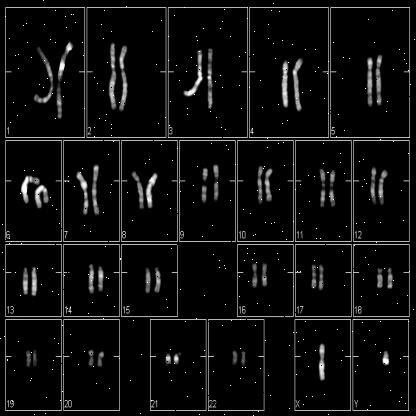1: (56, 42, 76, 120), (34, 45, 54, 107)
10: (256, 164, 264, 206), (264, 164, 272, 204)
11: (318, 168, 328, 208), (327, 169, 337, 208)
12: (378, 167, 388, 209), (370, 166, 376, 208)
13: (20, 266, 29, 297), (30, 266, 38, 297)
14: (96, 262, 106, 296), (86, 262, 95, 296)
15: (153, 266, 160, 294), (144, 268, 151, 295)
16: (260, 260, 269, 290), (250, 262, 259, 290)
17: (310, 262, 316, 292), (318, 262, 324, 292)
18: (374, 266, 384, 292), (384, 266, 394, 292)
19: (24, 348, 32, 368), (31, 350, 38, 368)
2: (107, 42, 119, 112), (118, 44, 130, 114)
20: (87, 348, 95, 368), (96, 348, 104, 368)
21: (172, 351, 181, 364), (164, 351, 172, 364)
22: (231, 349, 238, 367), (240, 348, 245, 366)
3: (184, 49, 204, 98), (206, 47, 218, 110)
4: (292, 57, 304, 112), (280, 60, 290, 108)
5: (366, 56, 374, 108), (375, 54, 382, 107)
6: (19, 174, 40, 204), (34, 184, 50, 209)
7: (88, 163, 103, 216), (74, 170, 90, 216)
8: (130, 170, 144, 212), (144, 170, 158, 210)
9: (211, 164, 220, 204), (200, 168, 209, 203)
X: (318, 341, 326, 384)
Y: (380, 348, 392, 366)
